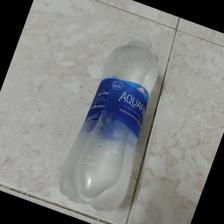Aquafina: (58, 32, 160, 221)
